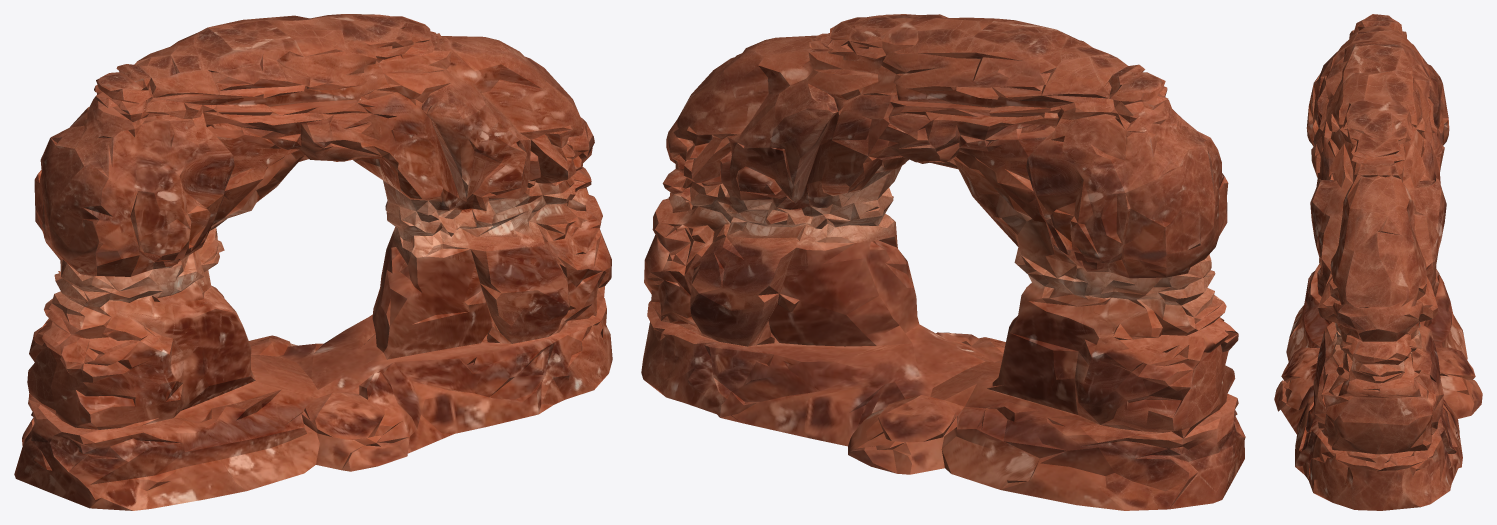
File: sunstrike_sandstone_arch.glb
3 views of the same model, side by side, from view 1: azimuth 30°, elevation 25°; view 2: azimuth 150°, elevation 25°; view 3: azimuth 270°, elevation 25° (orthographic). The views are drawn at different scales.
Bounding box in the file's own units: 1.9 × 1.28 × 0.7568.
1 material, 1 textured.
